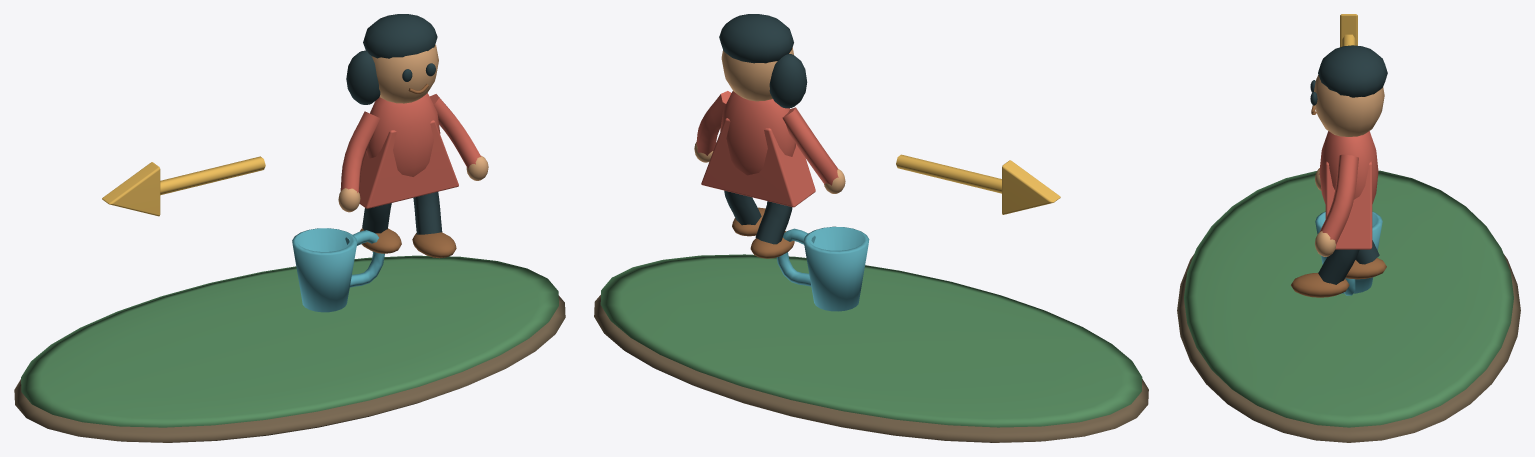
Rendered from complete-first-woman-wants-west.glb.
The picture shows the model from 3 angles, left to right: view 1: azimuth 30°, elevation 25°; view 2: azimuth 150°, elevation 25°; view 3: azimuth 270°, elevation 25°; orthographic projection. The views are drawn at different scales.
Visible parts, largest first — view 1: complete-first-woman-wants-west_surface_01, complete-first-woman-wants-west_surface_06, complete-first-woman-wants-west_surface_00, complete-first-woman-wants-west_surface_04, complete-first-woman-wants-west_surface_07, complete-first-woman-wants-west_surface_02, complete-first-woman-wants-west_surface_03, complete-first-woman-wants-west_surface_05; view 2: complete-first-woman-wants-west_surface_01, complete-first-woman-wants-west_surface_06, complete-first-woman-wants-west_surface_00, complete-first-woman-wants-west_surface_04, complete-first-woman-wants-west_surface_07, complete-first-woman-wants-west_surface_02, complete-first-woman-wants-west_surface_03, complete-first-woman-wants-west_surface_05; view 3: complete-first-woman-wants-west_surface_01, complete-first-woman-wants-west_surface_00, complete-first-woman-wants-west_surface_06, complete-first-woman-wants-west_surface_04, complete-first-woman-wants-west_surface_03, complete-first-woman-wants-west_surface_05, complete-first-woman-wants-west_surface_07, complete-first-woman-wants-west_surface_02.
Boxes of the visible parts, x1,y1,x2,y2 form: complete-first-woman-wants-west_surface_01: [21, 255, 558, 427]; complete-first-woman-wants-west_surface_06: [340, 93, 481, 208]; complete-first-woman-wants-west_surface_00: [14, 295, 565, 442]; complete-first-woman-wants-west_surface_04: [346, 14, 442, 234]; complete-first-woman-wants-west_surface_07: [292, 228, 384, 312]; complete-first-woman-wants-west_surface_02: [102, 156, 265, 216]; complete-first-woman-wants-west_surface_03: [338, 44, 488, 212]; complete-first-woman-wants-west_surface_05: [360, 84, 456, 258]; complete-first-woman-wants-west_surface_01: [600, 254, 1142, 427]; complete-first-woman-wants-west_surface_06: [696, 91, 838, 207]; complete-first-woman-wants-west_surface_00: [594, 295, 1148, 442]; complete-first-woman-wants-west_surface_04: [719, 14, 807, 244]; complete-first-woman-wants-west_surface_07: [776, 226, 869, 311]; complete-first-woman-wants-west_surface_02: [896, 154, 1060, 214]; complete-first-woman-wants-west_surface_03: [694, 47, 845, 193]; complete-first-woman-wants-west_surface_05: [732, 207, 794, 258]; complete-first-woman-wants-west_surface_01: [1184, 170, 1513, 427]; complete-first-woman-wants-west_surface_00: [1177, 254, 1520, 442]; complete-first-woman-wants-west_surface_06: [1319, 131, 1378, 249]; complete-first-woman-wants-west_surface_04: [1310, 45, 1387, 284]; complete-first-woman-wants-west_surface_03: [1314, 75, 1384, 256]; complete-first-woman-wants-west_surface_05: [1291, 105, 1386, 297]; complete-first-woman-wants-west_surface_07: [1315, 211, 1382, 295]; complete-first-woman-wants-west_surface_02: [1340, 14, 1357, 47].
Size of the model in its own units: 4.56 by 2.67 by 2.5.
